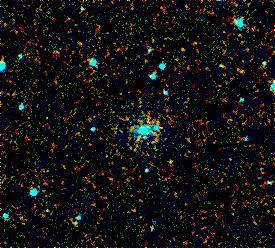star: (155, 146, 185, 176)
